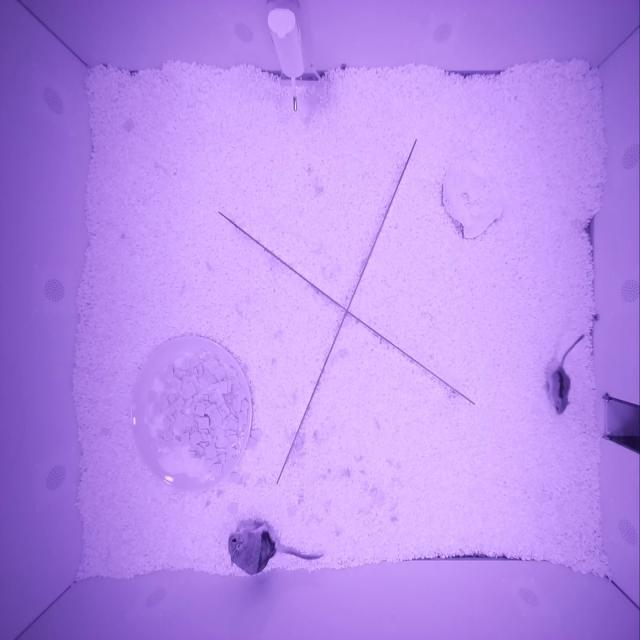adult_back: (228, 524, 279, 576)
pup_v_stripe: (548, 366, 571, 414)
